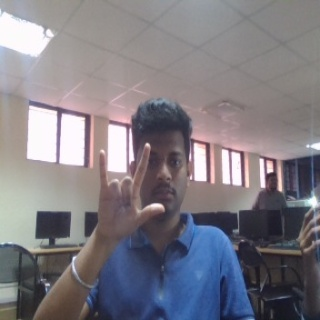I Love You: (93, 141, 166, 239)
